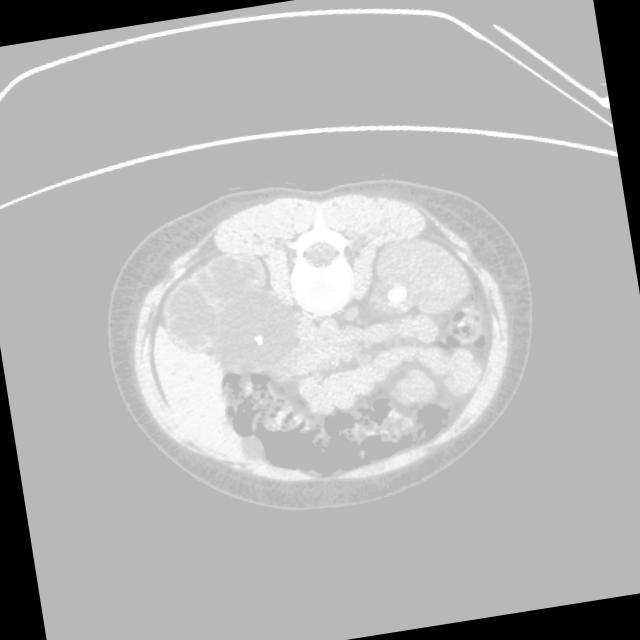STONE: (160, 296, 524, 503)
